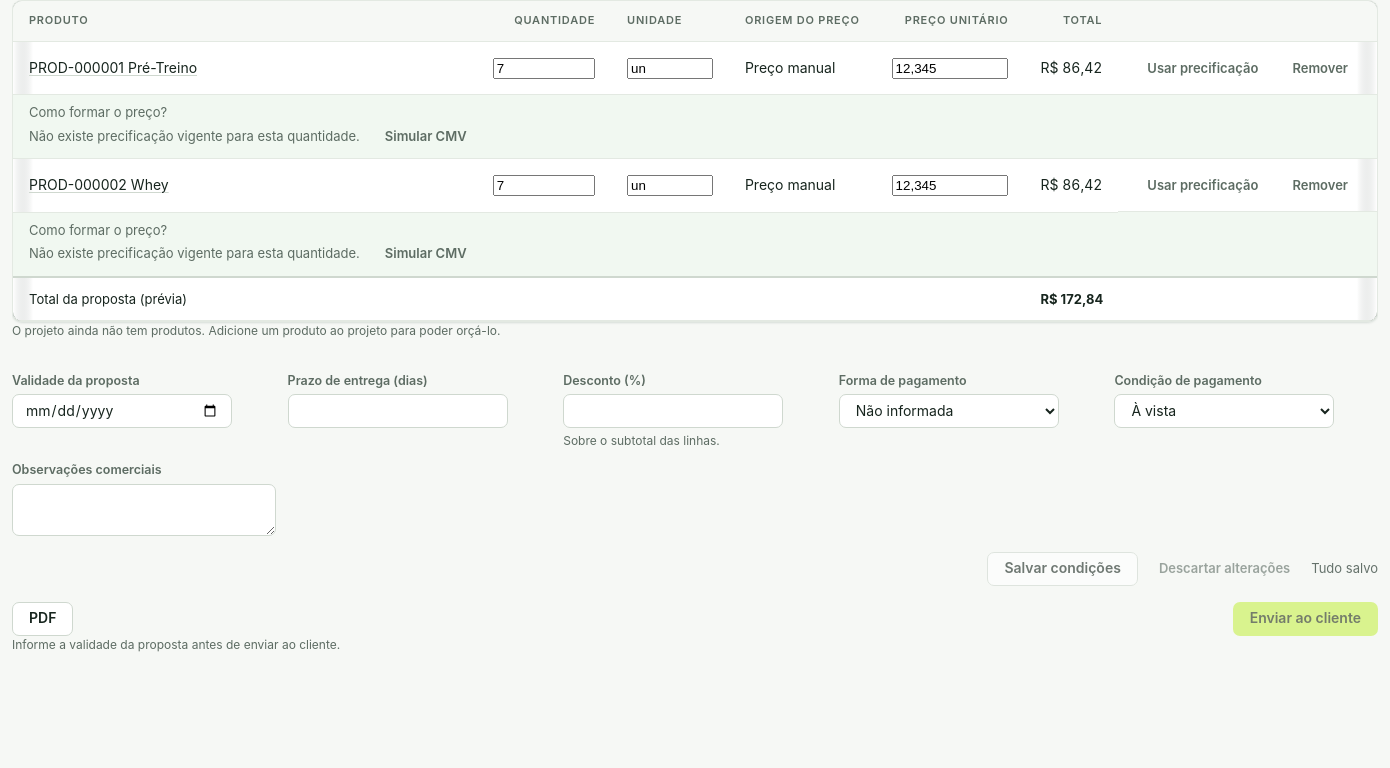
it: #8H — orçamento em edição mostra o total do que está na tela › O. o total da proposta é a soma das linhas impressas, centavo por centavo
E ao vivo, com a segunda linha digitada, a regra é a mesma.
Replace the text in the field named "Quantidade de PROD-000002" with "14" at (544, 186), box left=493, top=175, right=595, bottom=196
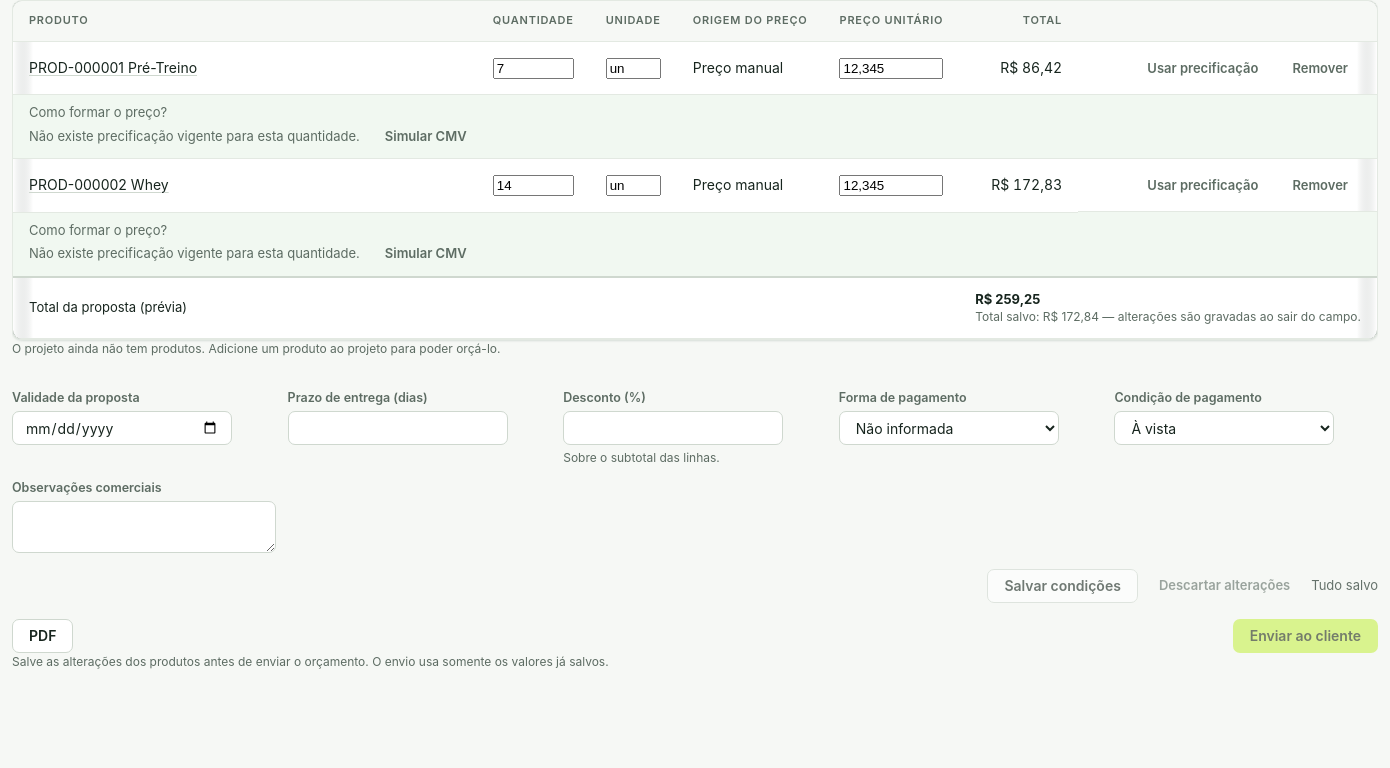
expect the cell "R$ 172,83" is shown: met, box left=959, top=159, right=1078, bottom=212
